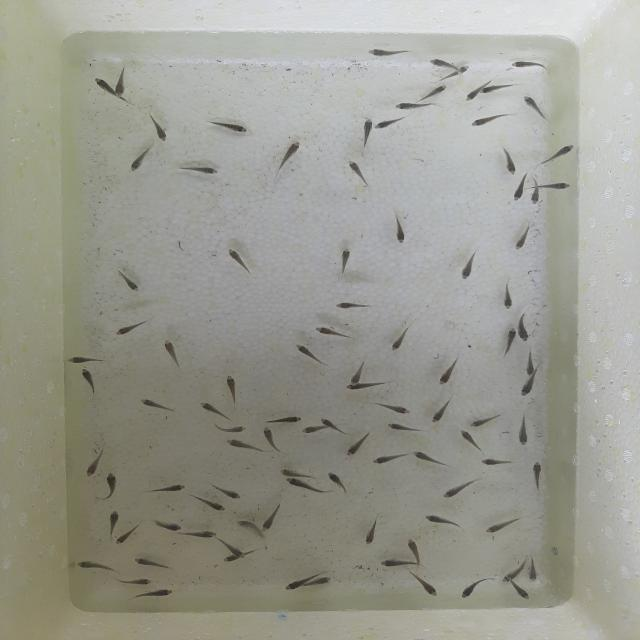fingerling: (271, 138, 305, 181), (291, 342, 334, 370), (418, 510, 469, 532), (481, 513, 532, 535), (173, 160, 226, 181), (536, 143, 578, 169), (518, 93, 552, 125), (222, 245, 256, 277), (360, 43, 420, 61), (203, 116, 252, 138), (384, 210, 412, 248), (468, 108, 512, 131), (135, 395, 181, 417), (312, 323, 358, 345), (435, 354, 465, 387), (342, 156, 369, 192), (160, 336, 186, 373), (126, 146, 156, 178), (440, 477, 483, 499), (458, 246, 484, 282), (121, 586, 178, 602), (146, 109, 172, 144), (458, 574, 491, 600), (112, 318, 154, 338), (410, 448, 451, 468), (408, 573, 442, 597), (510, 221, 537, 251), (261, 497, 284, 532), (369, 398, 413, 416), (387, 323, 415, 351), (115, 266, 142, 295), (334, 245, 356, 280), (98, 470, 122, 502), (73, 557, 121, 573), (128, 553, 173, 570), (222, 372, 243, 408), (457, 428, 485, 455), (383, 419, 427, 436), (82, 444, 104, 478), (79, 364, 99, 401), (430, 395, 455, 424), (467, 410, 507, 428), (528, 458, 548, 494), (140, 481, 188, 496), (506, 58, 550, 74), (360, 516, 382, 548), (284, 477, 328, 493), (512, 409, 530, 448), (206, 481, 245, 499), (190, 495, 228, 513), (198, 400, 230, 420), (65, 352, 110, 366), (145, 515, 182, 532), (416, 84, 450, 102), (500, 146, 520, 176), (501, 557, 525, 582), (369, 451, 406, 467), (221, 437, 260, 452), (501, 279, 519, 311), (107, 575, 155, 587), (116, 524, 142, 546), (374, 115, 409, 131), (376, 556, 416, 570), (332, 298, 375, 311), (210, 422, 251, 435), (344, 434, 368, 456), (261, 413, 305, 425), (349, 358, 368, 385), (502, 326, 517, 359), (517, 308, 531, 343), (391, 102, 444, 111), (479, 84, 518, 96), (180, 528, 219, 540), (423, 56, 456, 70), (260, 425, 279, 449), (403, 537, 423, 559), (360, 118, 374, 149), (510, 582, 531, 602), (237, 518, 260, 536), (511, 178, 527, 203), (516, 378, 536, 398), (276, 468, 316, 478), (326, 470, 348, 488), (89, 76, 113, 92), (108, 508, 121, 536), (523, 346, 535, 376), (478, 458, 518, 467), (283, 578, 304, 592), (542, 181, 571, 191), (527, 554, 537, 583), (299, 423, 321, 436), (311, 575, 333, 587), (115, 82, 128, 99), (457, 63, 473, 76), (528, 190, 540, 206), (232, 546, 248, 558), (462, 91, 477, 103), (318, 415, 334, 426), (220, 554, 235, 563), (345, 384, 358, 392)
